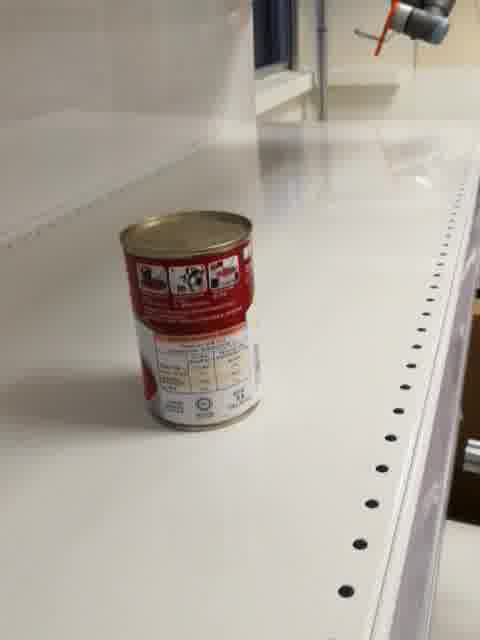tomatosoup: (117, 209, 260, 436)
